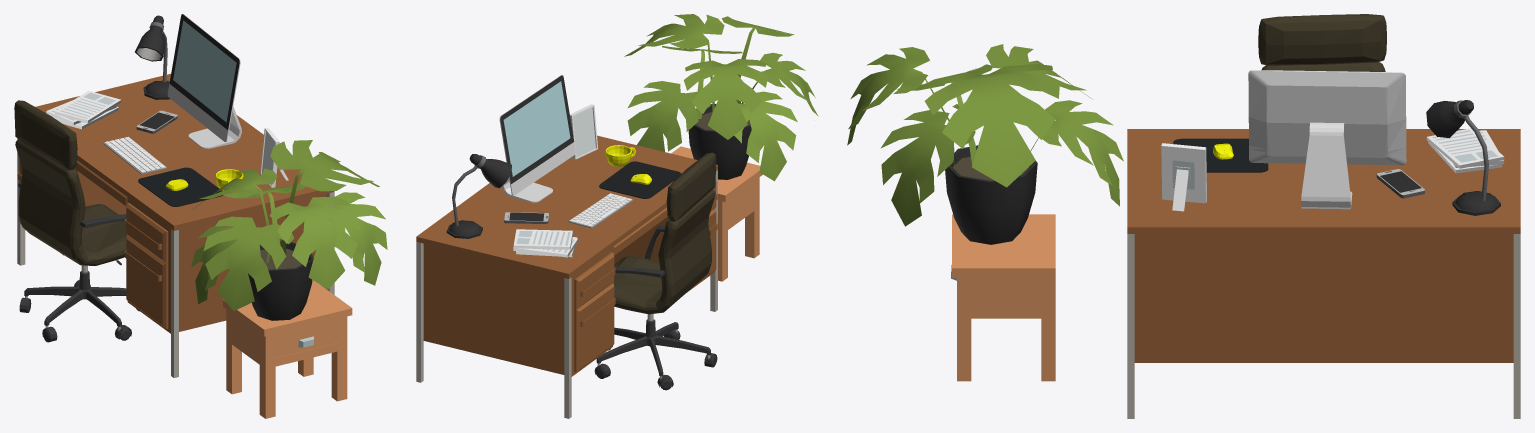
The model's file is desk.glb.
The picture shows the model from 3 angles, left to right: view 1: azimuth 30°, elevation 25°; view 2: azimuth 150°, elevation 25°; view 3: azimuth 270°, elevation 25°; orthographic projection. The views are drawn at different scales.
Visible parts, largest first — view 1: Keyboard.001|group425587018|Dupli|, Monitor.001|iMac|Dupli|, Cup.001|Cup|Dupli|; view 2: Keyboard.001|group425587018|Dupli|, Monitor.001|iMac|Dupli|, Cup.001|Cup|Dupli|; view 3: Keyboard.001|group425587018|Dupli|, Monitor.001|iMac|Dupli|.
Boxes of the visible parts, bbox=[...] form: Keyboard.001|group425587018|Dupli|: bbox=[14, 15, 387, 418]; Monitor.001|iMac|Dupli|: bbox=[167, 14, 241, 148]; Cup.001|Cup|Dupli|: bbox=[215, 169, 243, 190]; Keyboard.001|group425587018|Dupli|: bbox=[416, 14, 818, 418]; Monitor.001|iMac|Dupli|: bbox=[499, 75, 575, 202]; Cup.001|Cup|Dupli|: bbox=[605, 145, 636, 166]; Keyboard.001|group425587018|Dupli|: bbox=[847, 14, 1520, 418]; Monitor.001|iMac|Dupli|: bbox=[1248, 70, 1406, 209].
Bounding box in the file's own units: 1.43 × 1.56 × 2.97.
Materials: 4 (2 with a texture image).
